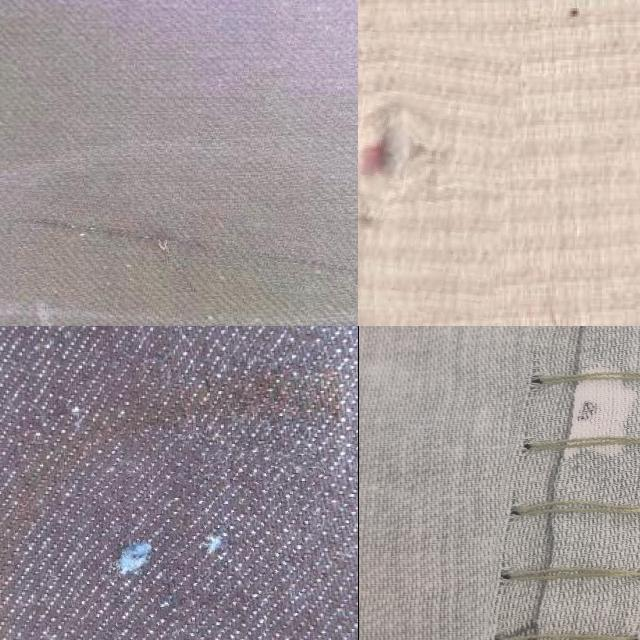Thread_out: (495, 326, 640, 640)
other: (358, 34, 514, 315)
stains: (71, 439, 319, 640), (0, 197, 358, 306)
